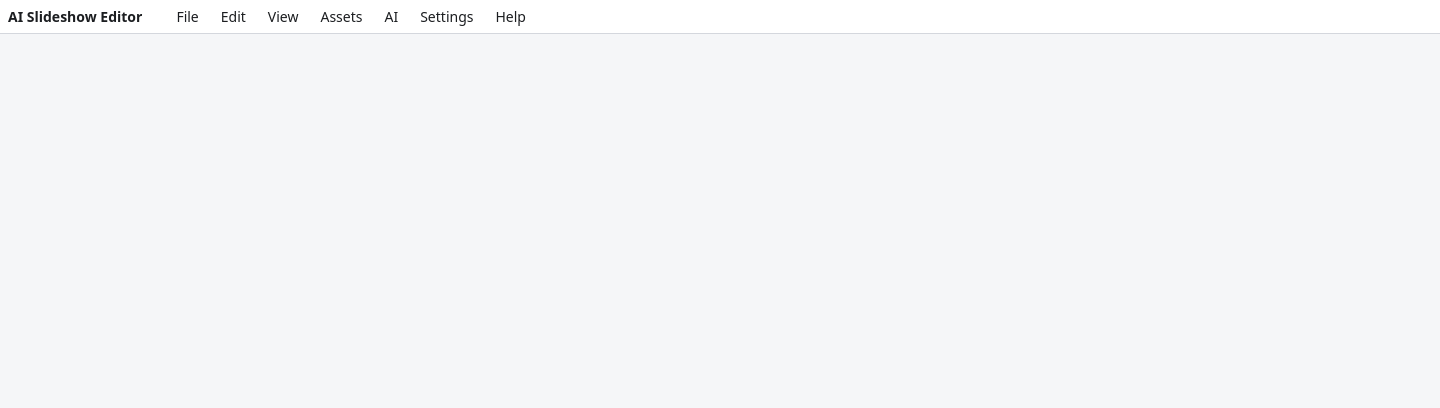
Test: MenuBar z-order items › disables the four z-order items without a selection
Step 1. Click the button "Edit" → click(233, 16), box [211,4,256,29]
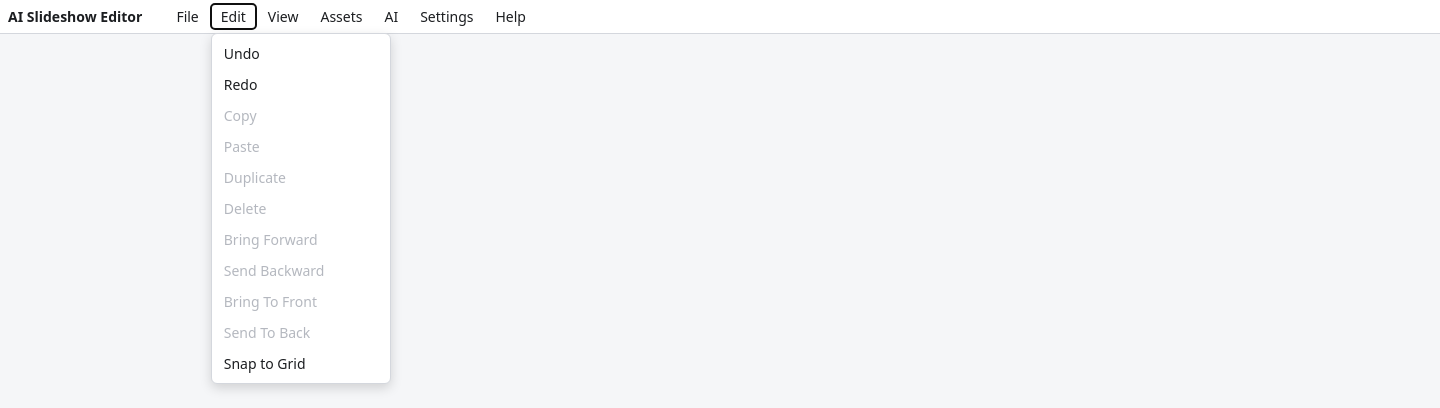
Now the menu item "Bring Forward" is disabled, box [212,224,390,255]
Now the menu item "Send Backward" is disabled, box [212,255,390,286]
Now the menu item "Bring To Front" is disabled, box [212,286,390,317]
